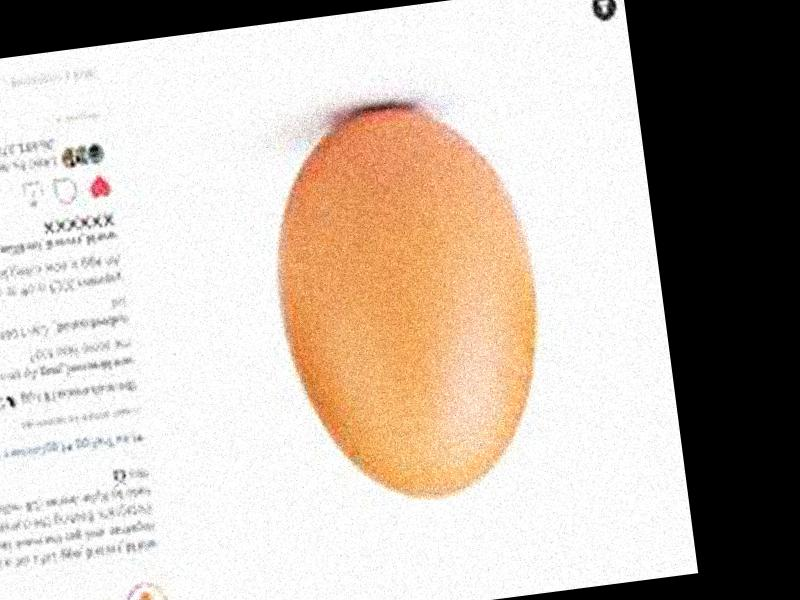Eggs: (258, 96, 559, 512)
